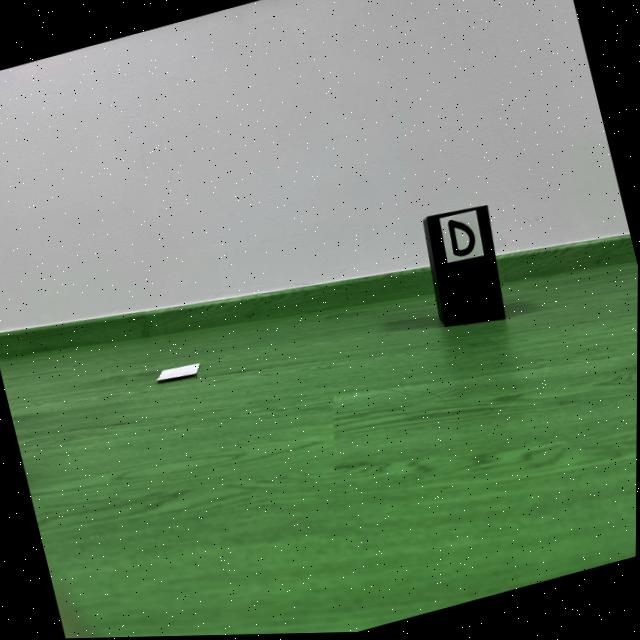D: (448, 221, 476, 258)
